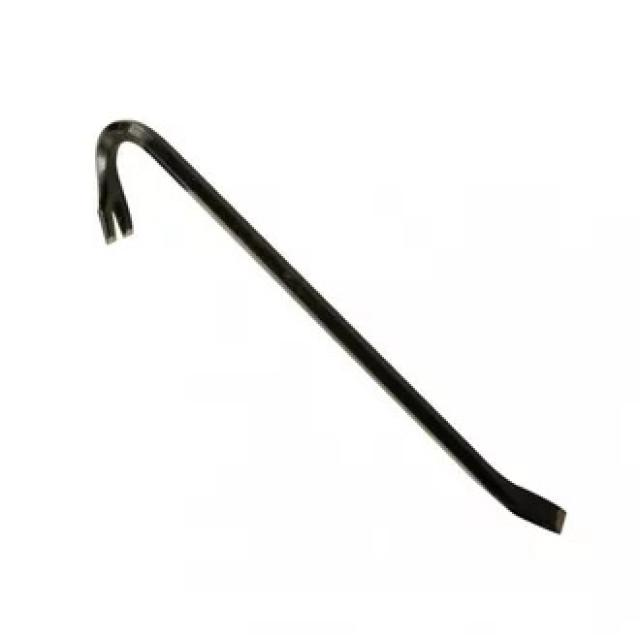Linggis: (94, 114, 567, 532)
